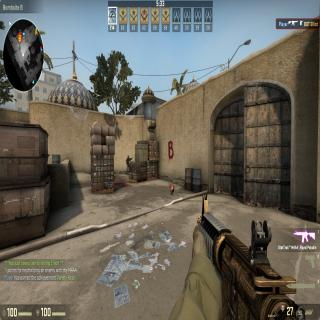T-Body: (126, 154, 130, 174)
T-Head: (126, 154, 130, 159)
